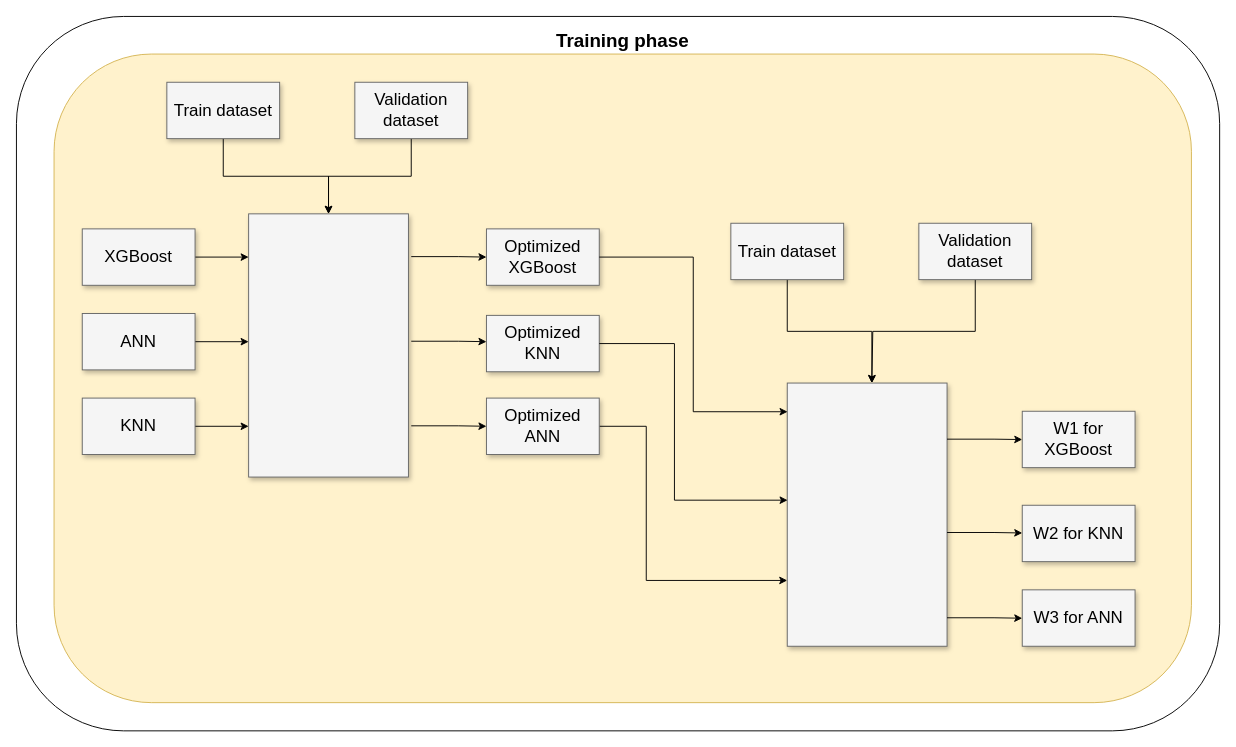
Image size: 1236x747. Some labels were removed from this diagram. Here are the shapes that lost their labels. From the top down, the centre of each, then its label:
the point at 329,346: Particle Swarm Optimization (Hyper-parameter tuning and feature selection)
the point at 868,515: Particle Swarm Optimization (Weights optimization)
